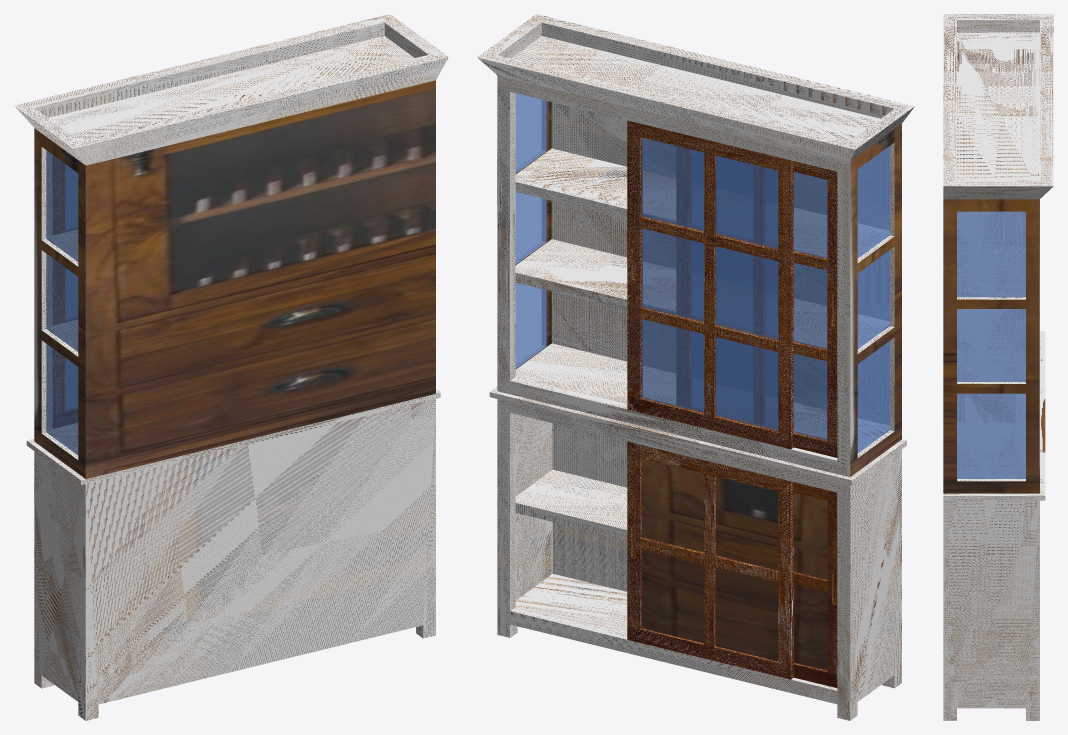
3 renders of one model, left to right at view 1: azimuth 30°, elevation 25°; view 2: azimuth 150°, elevation 25°; view 3: azimuth 270°, elevation 25°, orthographic. The views are drawn at different scales.
Parts seen in each view (by area): view 1: mesh6_mesh6-geometry, mesh5_mesh5-geometry, mesh2_mesh2-geometry; view 2: mesh6_mesh6-geometry, mesh5_mesh5-geometry, mesh1_mesh1-geometry, mesh2_mesh2-geometry, mesh3_mesh3-geometry, mesh4_mesh4-geometry; view 3: mesh6_mesh6-geometry, mesh5_mesh5-geometry.
Part boxes in pixels (left/top/right/bottom): mesh6_mesh6-geometry: left=14, top=14, right=448, bottom=478; mesh5_mesh5-geometry: left=26, top=389, right=440, bottom=720; mesh2_mesh2-geometry: left=50, top=155, right=77, bottom=428; mesh6_mesh6-geometry: left=477, top=14, right=914, bottom=477; mesh5_mesh5-geometry: left=489, top=387, right=906, bottom=720; mesh1_mesh1-geometry: left=627, top=120, right=793, bottom=449; mesh2_mesh2-geometry: left=676, top=146, right=837, bottom=457; mesh3_mesh3-geometry: left=627, top=441, right=793, bottom=679; mesh4_mesh4-geometry: left=793, top=482, right=837, bottom=687; mesh6_mesh6-geometry: left=943, top=14, right=1053, bottom=493; mesh5_mesh5-geometry: left=943, top=331, right=1045, bottom=720.
Bounding box in the file's own units: 0.5577 × 0.8161 × 0.1514.
